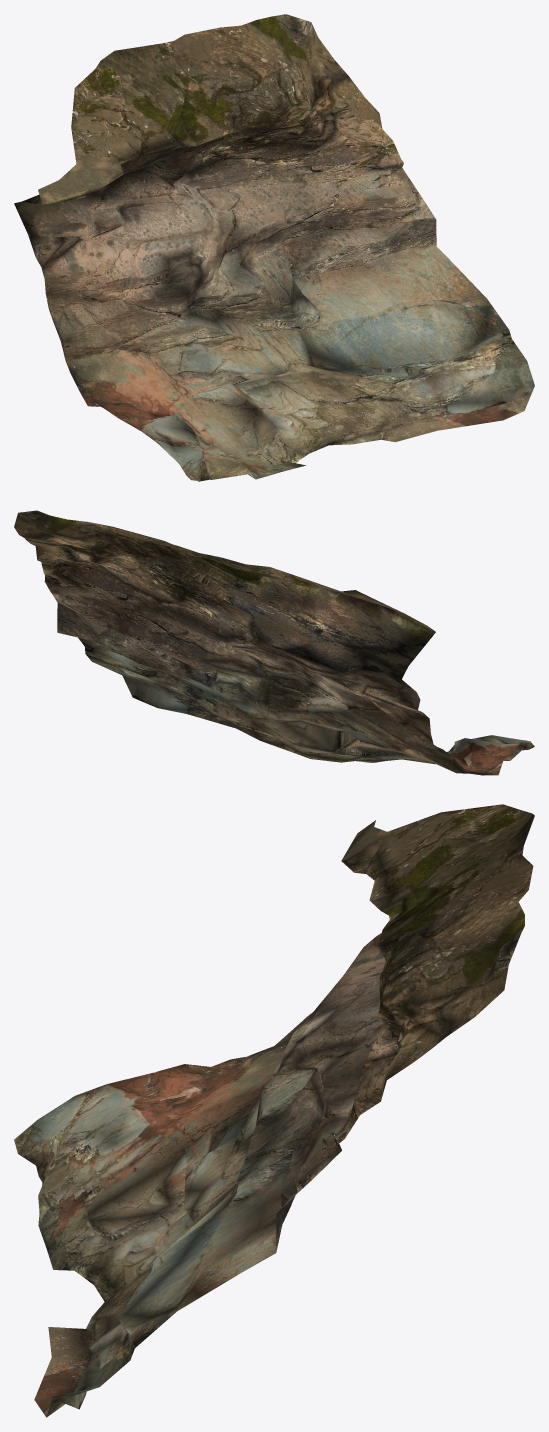
The model's file is rock_face_01.glb.
The picture shows the model from 3 angles, top to bottom: view 1: azimuth 30°, elevation 25°; view 2: azimuth 150°, elevation 25°; view 3: azimuth 270°, elevation 25°; orthographic projection. The views are drawn at different scales.
Parts seen in each view (by area): view 1: rock_face_01; view 2: rock_face_01; view 3: rock_face_01.
Part boxes in pixels (x1,y1,x2,y2): rock_face_01: [14, 14, 534, 481]; rock_face_01: [14, 510, 534, 775]; rock_face_01: [14, 804, 534, 1417].
Bounding box in the file's own units: 4.94 × 3.56 × 3.82.
Materials: 1 (1 with a texture image).
